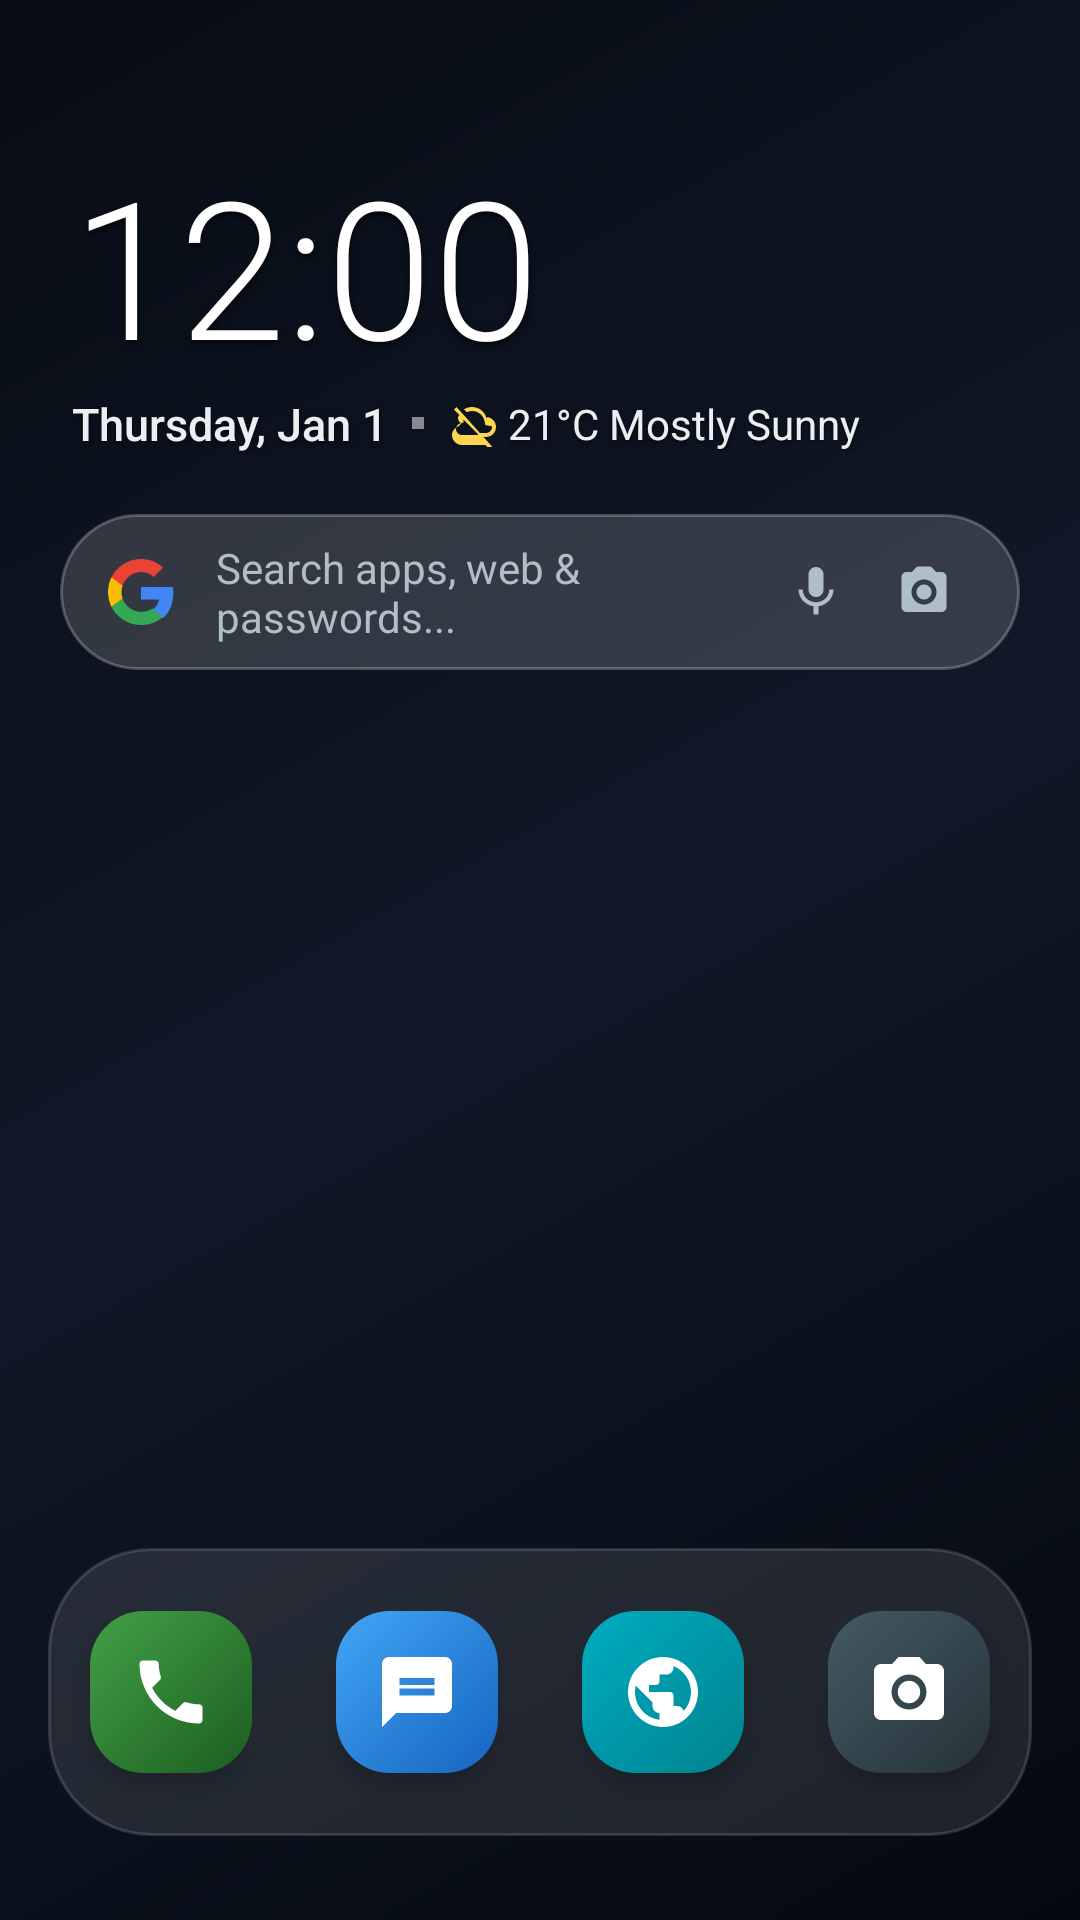

Where to tap for icons on this 1080*1920 app screen, as (x,y):
Browser: (663,1692)
Camera: (909,1688)
Messages: (417,1692)
Phone: (171,1692)
Visual Search: (924,589)
Voice Search: (816,591)
weather: (474,427)
